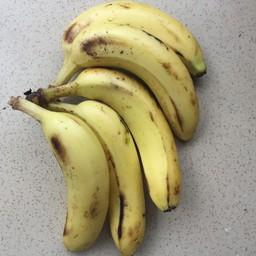Good_banana: (6, 6, 214, 241)
